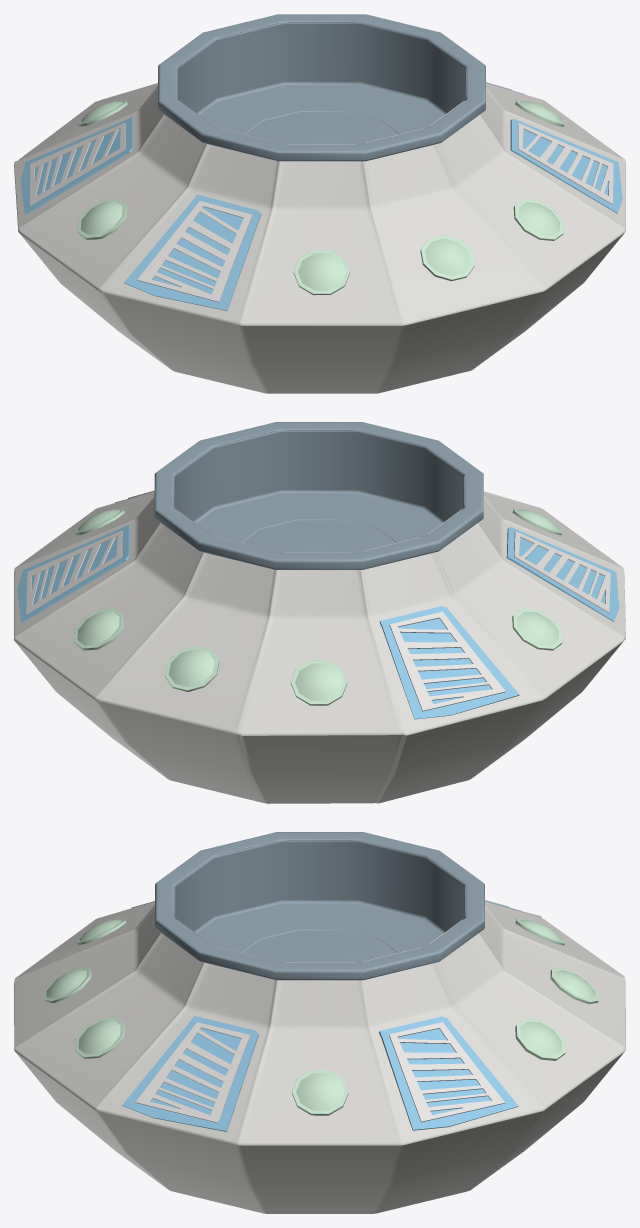
The model's file is ufo.fbx.
3 views of the same model, one above another, from view 1: azimuth 30°, elevation 25°; view 2: azimuth 150°, elevation 25°; view 3: azimuth 270°, elevation 25° (orthographic).
Visible parts, largest first — view 1: ufo_01_body_geom, ufo_02_body_geom, overlay_08_geom, overlay_07_geom, overlay_06_geom, overlay_02_geom, overlay_01_geom, overlay_05_geom, lamp_04_geom, lamp_02_geom, lamp_06_geom, lamp_16_geom (+2 smaller); view 2: ufo_01_body_geom, ufo_02_body_geom, overlay_02_geom, overlay_01_geom, overlay_08_geom, overlay_04_geom, overlay_03_geom, overlay_07_geom, lamp_12_geom, lamp_08_geom, lamp_10_geom, lamp_16_geom (+2 smaller); view 3: ufo_01_body_geom, ufo_02_body_geom, overlay_06_geom, overlay_04_geom, overlay_03_geom, overlay_05_geom, lamp_14_geom, lamp_10_geom, lamp_06_geom, lamp_08_geom, lamp_02_geom, lamp_12_geom (+1 smaller).
Part boxes in pixels (left/top/right/bottom): ufo_01_body_geom: left=14, top=22, right=625, bottom=393; ufo_02_body_geom: left=158, top=14, right=485, bottom=161; overlay_08_geom: left=124, top=194, right=261, bottom=310; overlay_07_geom: left=137, top=201, right=252, bottom=302; overlay_06_geom: left=510, top=119, right=622, bottom=213; overlay_02_geom: left=20, top=117, right=132, bottom=214; overlay_01_geom: left=30, top=123, right=125, bottom=205; overlay_05_geom: left=518, top=123, right=613, bottom=204; lamp_04_geom: left=293, top=250, right=349, bottom=295; lamp_02_geom: left=420, top=235, right=474, bottom=281; lamp_06_geom: left=513, top=199, right=563, bottom=240; lamp_16_geom: left=77, top=198, right=127, bottom=239; ufo_01_body_geom: left=14, top=430, right=625, bottom=803; ufo_02_body_geom: left=154, top=422, right=483, bottom=569; overlay_02_geom: left=379, top=606, right=519, bottom=719; overlay_01_geom: left=389, top=611, right=505, bottom=711; overlay_08_geom: left=506, top=527, right=619, bottom=621; overlay_04_geom: left=17, top=525, right=129, bottom=623; overlay_03_geom: left=26, top=530, right=122, bottom=613; overlay_07_geom: left=514, top=531, right=610, bottom=613; lamp_12_geom: left=290, top=660, right=347, bottom=705; lamp_08_geom: left=165, top=645, right=219, bottom=691; lamp_10_geom: left=74, top=608, right=124, bottom=650; lamp_16_geom: left=512, top=608, right=562, bottom=650; ufo_01_body_geom: left=14, top=840, right=625, bottom=1213; ufo_02_body_geom: left=155, top=832, right=484, bottom=980; overlay_06_geom: left=122, top=1016, right=259, bottom=1131; overlay_04_geom: left=379, top=1016, right=518, bottom=1130; overlay_03_geom: left=389, top=1022, right=504, bottom=1122; overlay_05_geom: left=135, top=1022, right=250, bottom=1123; lamp_14_geom: left=292, top=1070, right=348, bottom=1115; lamp_10_geom: left=515, top=1018, right=565, bottom=1060; lamp_06_geom: left=75, top=1017, right=125, bottom=1058; lamp_08_geom: left=550, top=968, right=598, bottom=1004; lamp_02_geom: left=43, top=967, right=91, bottom=1003; lamp_12_geom: left=515, top=918, right=565, bottom=945.
Bounding box in the file's own units: 42.68 × 17.41 × 42.69.
